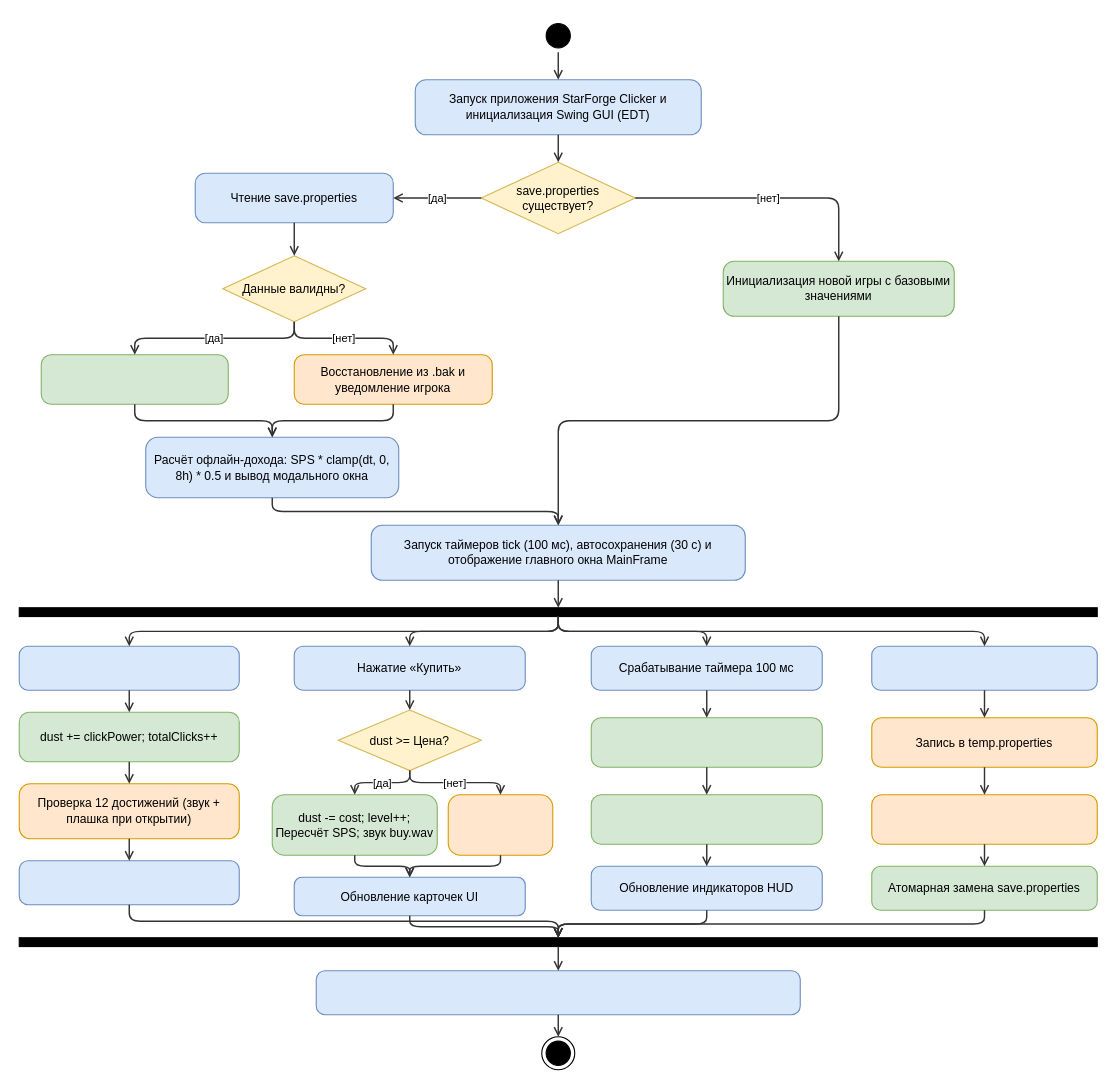
This 1117x1089 diagram has some shape labels left out. The centre of each missing label's shape, as x and y in pixels:
dust += SPS * 0.1; totalEarned += SPS * 0.1: (706,742)
Загрузка параметров в GameModel: (134,379)
Клик по кнопке звезды: (128,667)
Копирование в .bak: (984,819)
Обновление счётчиков UI: (128,882)
Отказ / звук ошибки: (500,824)
Пересчёт уровня игрока и шкалы опыта: (706,819)
Таймер 30 с / закрытие: (984,667)
Штатное закрытие окна: финальное сохранение и остановка таймеров: (557,992)
